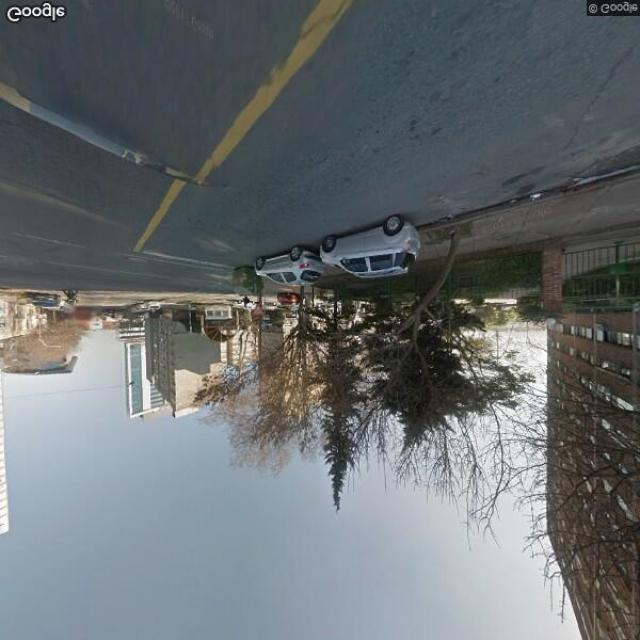garbage container: (226, 262, 270, 303)
